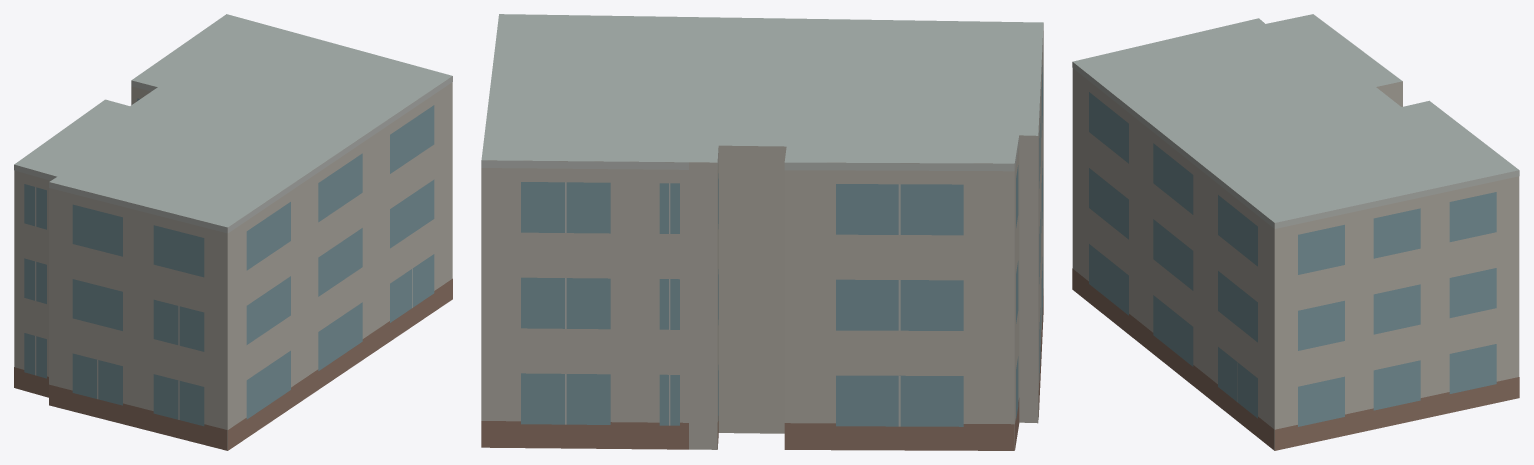
The model's file is survey-upis-32906568.glb.
3 renders of one model, left to right at view 1: azimuth 30°, elevation 25°; view 2: azimuth 150°, elevation 25°; view 3: azimuth 270°, elevation 25°, orthographic. The views are drawn at different scales.
Visible parts, largest first — view 1: survey-upis-32906568.tmp; view 2: survey-upis-32906568.tmp; view 3: survey-upis-32906568.tmp.
Boxes of the visible parts, x1,y1,x2,y2 form: survey-upis-32906568.tmp: [14, 14, 452, 450]; survey-upis-32906568.tmp: [481, 14, 1043, 450]; survey-upis-32906568.tmp: [1072, 14, 1519, 450].
Bounding box in the file's own units: 18.01 × 9.15 × 16.28.
